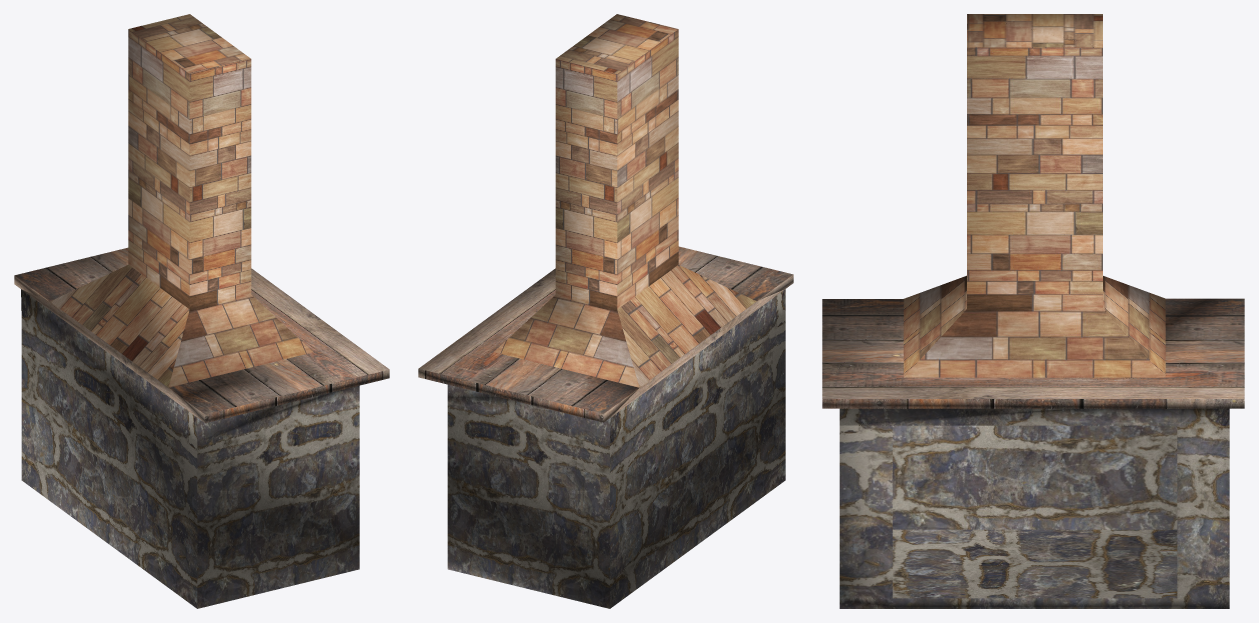
File: fireplace.fbx
3 renders of one model, left to right at view 1: azimuth 30°, elevation 25°; view 2: azimuth 150°, elevation 25°; view 3: azimuth 270°, elevation 25°, orthographic. The views are drawn at different scales.
Parts seen in each view (by area): view 1: Cube; view 2: Cube; view 3: Cube.
Part boxes in pixels (x1,y1,x2,y2): Cube: (14, 14, 389, 608); Cube: (418, 14, 793, 608); Cube: (822, 14, 1244, 608).
Bounding box in the file's own units: 195 × 485 × 348.
3 materials, 3 textured.
